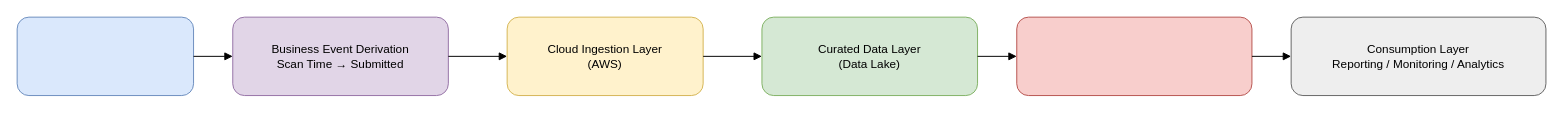
This 1563x113 diagram has some shape labels left out. The centre of each missing label's shape, as x and y in pixels:
"Physical Data Sources (Scanners, Sensors)" belongs at (x=105, y=56).
"Streaming & Aggregation Kafka (15-min windows)" belongs at (x=1134, y=56).
